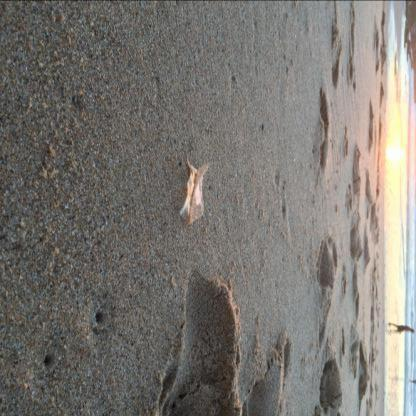Plastic bag - wrapper: (180, 158, 210, 223)
